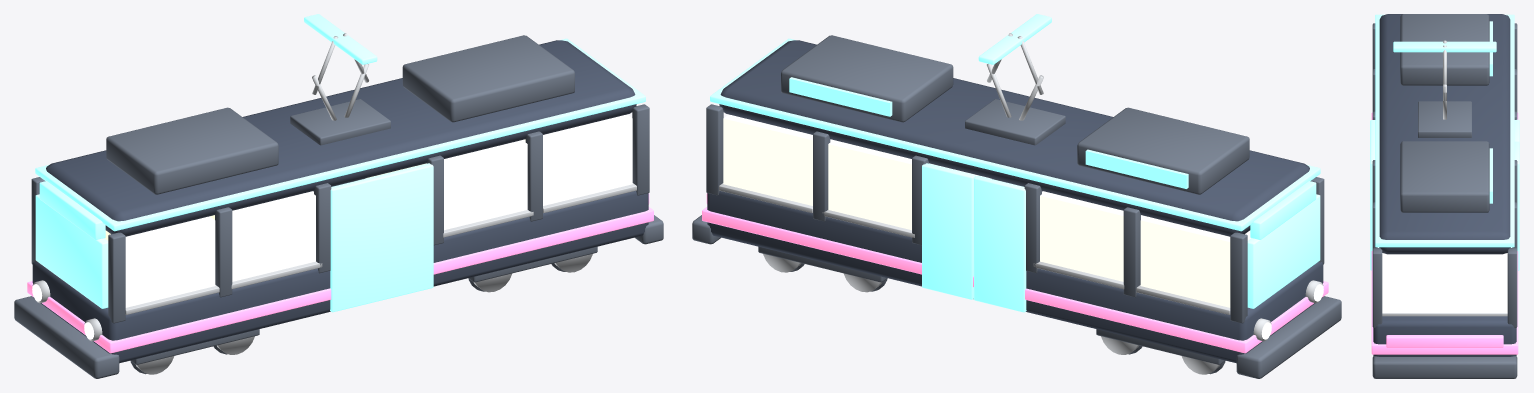
Rendered from electro_trolley.glb.
The picture shows the model from 3 angles, left to right: view 1: azimuth 30°, elevation 25°; view 2: azimuth 150°, elevation 25°; view 3: azimuth 270°, elevation 25°; orthographic projection. The views are drawn at different scales.
Parts seen in each view (by area): view 1: TramUpperRoof, TramLowerHull, SouthCenterDoor, RoofHVAC_-2.5, RoofHVAC_2.5, CabinWindow_-3.52, CabinWindow_3.52, CrimsonStripe, CabinWindow_1.78, CabinWindow_-1.78, CyanRoofLine, FrontWindshield (+16 smaller); view 2: TramUpperRoof, TramLowerHull, RoofHVAC_-2.5, RoofHVAC_2.5, DoorLeft, CabinWindow_-3.52, DoorRight, CabinWindow_3.52, CrimsonStripe, CabinWindow_1.78, CabinWindow_-1.78, CyanRoofLine (+19 smaller); view 3: TramUpperRoof, CabinWindow_3.52, RoofHVAC_2.5, RoofHVAC_-2.5, CyanRoofLine, TramLowerHull, RearBumper, PantographBase, CrimsonStripe, RearTailBar, PantoCollector, Pillar_4.42_1.12 (+15 smaller).
Part boxes in pixels (box(x1,y1,x2,y2)): TramUpperRoof: box(46, 40, 636, 236); TramLowerHull: box(32, 181, 648, 363); SouthCenterDoor: box(330, 163, 433, 312); RoofHVAC_-2.5: box(106, 107, 278, 194); RoofHVAC_2.5: box(402, 35, 574, 122); CabinWindow_-3.52: box(104, 216, 215, 307); CabinWindow_3.52: box(524, 114, 632, 205); CrimsonStripe: box(27, 207, 653, 353); CabinWindow_1.78: box(367, 139, 527, 230); CabinWindow_-1.78: box(210, 191, 315, 281); CyanRoofLine: box(35, 38, 645, 231); FrontWindshield: box(35, 194, 108, 308); TramUpperRoof: box(719, 40, 1309, 236); TramLowerHull: box(707, 181, 1323, 363); RoofHVAC_-2.5: box(1077, 107, 1249, 194); RoofHVAC_2.5: box(781, 35, 953, 122); DoorLeft: box(974, 175, 1026, 312); CabinWindow_-3.52: box(1140, 216, 1251, 307); DoorRight: box(922, 163, 975, 299); CabinWindow_3.52: box(723, 114, 831, 205); CrimsonStripe: box(702, 207, 1328, 353); CabinWindow_1.78: box(828, 139, 988, 230); CabinWindow_-1.78: box(1040, 191, 1145, 281); CyanRoofLine: box(710, 38, 1320, 231); TramUpperRoof: box(1379, 14, 1510, 254); CabinWindow_3.52: box(1377, 247, 1512, 312); RoofHVAC_2.5: box(1400, 141, 1489, 212); RoofHVAC_-2.5: box(1400, 14, 1489, 85); CyanRoofLine: box(1375, 14, 1514, 247); TramLowerHull: box(1373, 316, 1516, 356); RearBumper: box(1372, 356, 1517, 378); PantographBase: box(1418, 101, 1471, 137); CrimsonStripe: box(1371, 112, 1518, 354); RearTailBar: box(1386, 335, 1503, 347); PantoCollector: box(1393, 41, 1496, 52); Pillar_4.42_1.12: box(1507, 248, 1517, 327).
Size of the model in its own units: 9.61 by 4.39 by 2.48.
